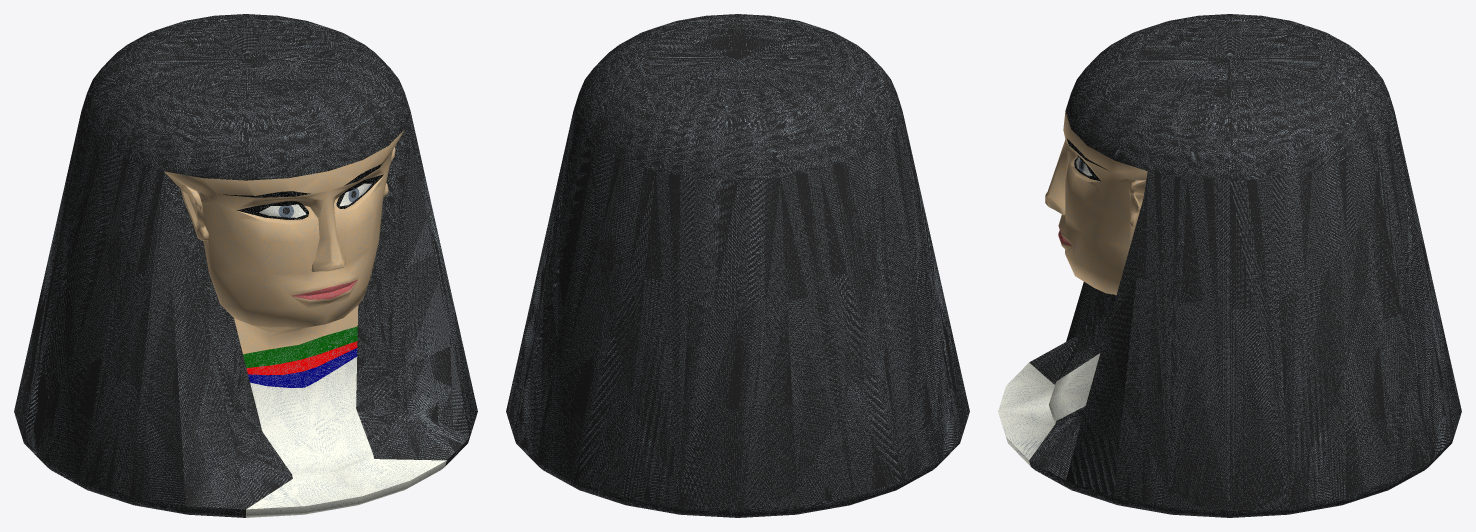
Rendered from woman head.dae.
The picture shows the model from 3 angles, left to right: view 1: azimuth 30°, elevation 25°; view 2: azimuth 150°, elevation 25°; view 3: azimuth 270°, elevation 25°; orthographic projection.
Parts seen in each view (by area): view 1: group_0 (×8); view 2: group_0; view 3: group_0 (×3).
Part boxes in pixels (x1,y1,x2,y2): group_0 (×8): [14, 14, 477, 517]; group_0: [506, 14, 969, 517]; group_0 (×3): [998, 14, 1461, 517].
Size of the model in its own units: 47.24 by 47.24 by 41.06.
